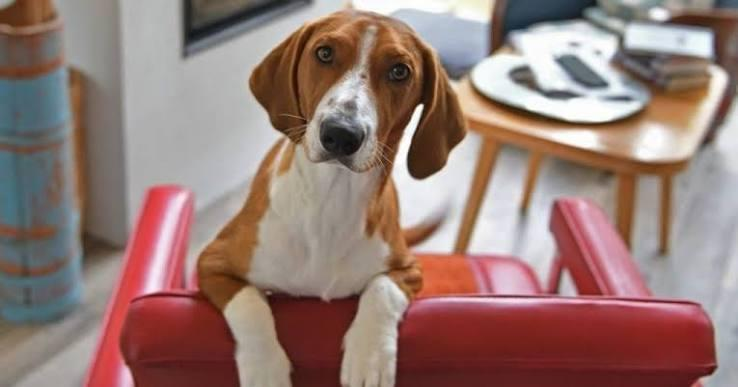adult_dog: (196, 4, 469, 387)
